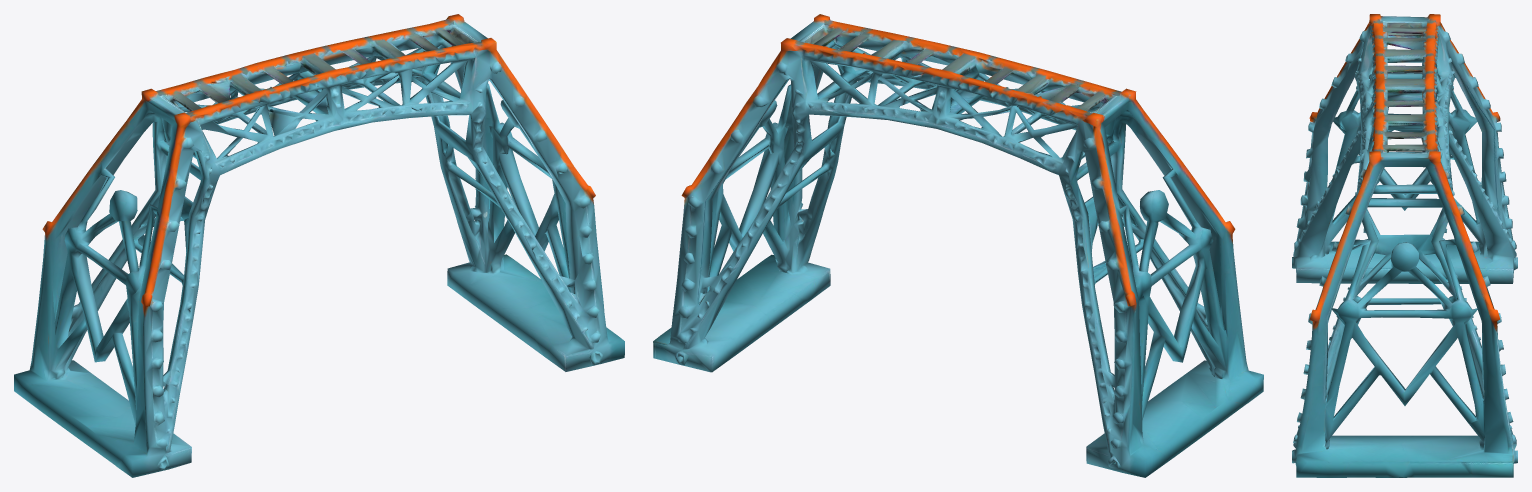
Rendered from truss.glb.
3 renders of one model, left to right at view 1: azimuth 30°, elevation 25°; view 2: azimuth 150°, elevation 25°; view 3: azimuth 270°, elevation 25°, orthographic. The views are drawn at different scales.
Bounding box in the file's own units: 1.91 × 1.16 × 0.8277.
1 material, 1 textured.
